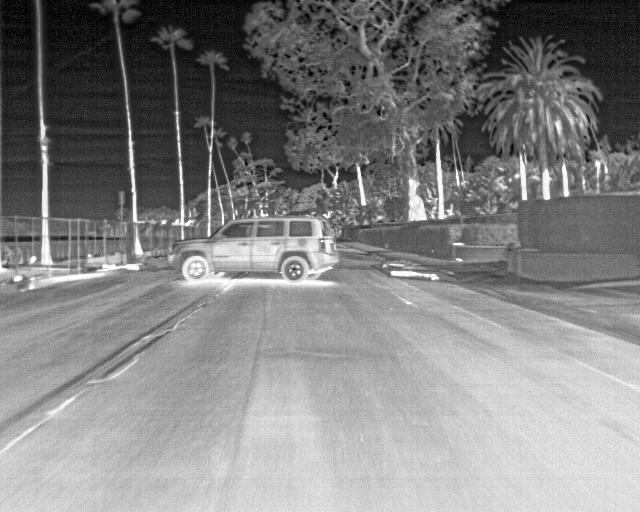car: (169, 214, 339, 284)
